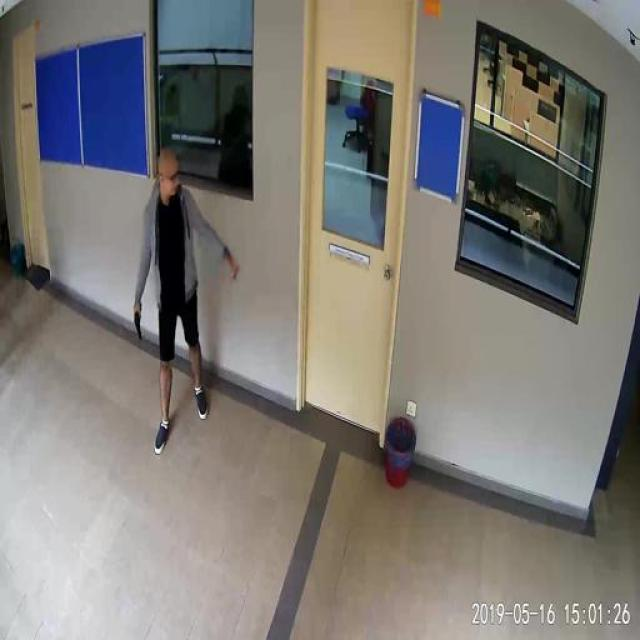Gun: (123, 297, 161, 356)
